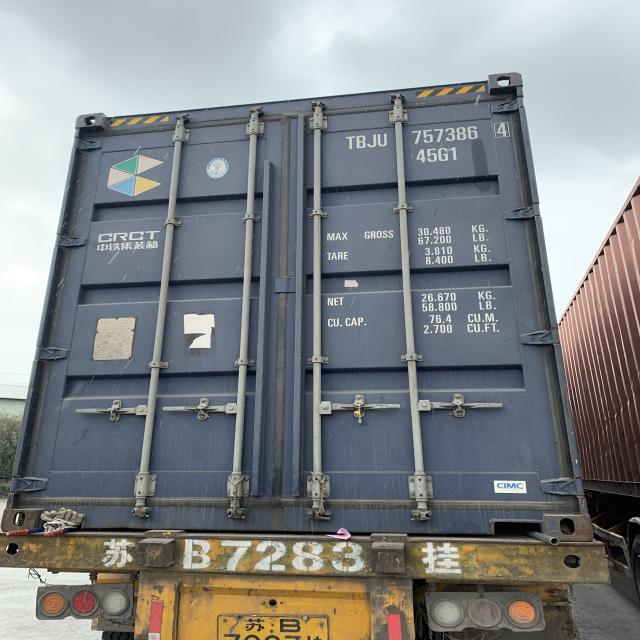seal: (349, 397, 369, 425)
